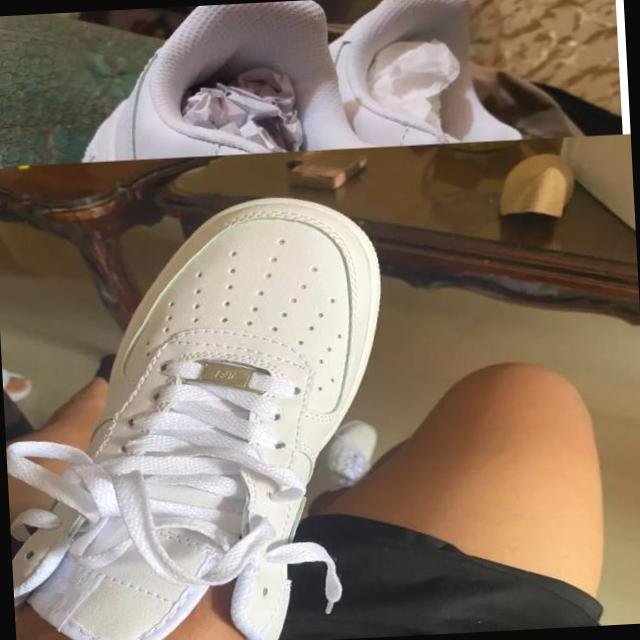nike_fake_airforce: (0, 190, 403, 640)
